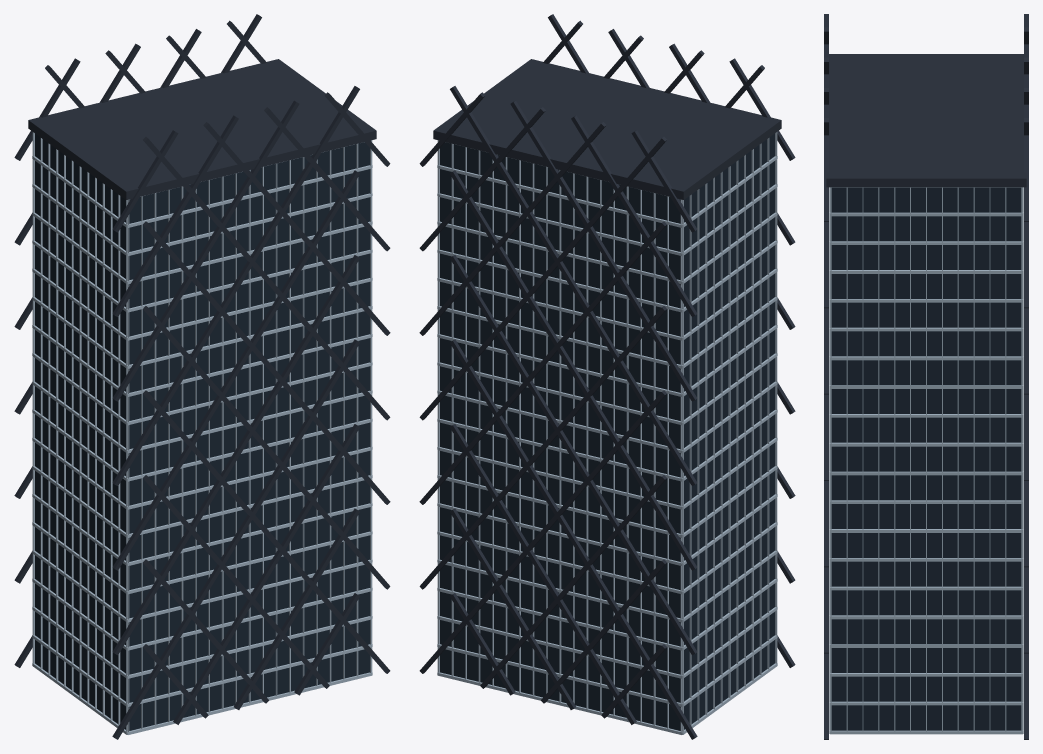
File: tower_diagrid.glb
3 views of the same model, side by side, from view 1: azimuth 30°, elevation 25°; view 2: azimuth 150°, elevation 25°; view 3: azimuth 270°, elevation 25° (orthographic). The views are drawn at different scales.
Visible parts, largest first — view 1: TowerDiagrid; view 2: TowerDiagrid; view 3: TowerDiagrid.
Part boxes in pixels (box(x1,y1,x2,y2)): TowerDiagrid: box(14, 14, 390, 739); TowerDiagrid: box(419, 14, 795, 739); TowerDiagrid: box(824, 14, 1028, 739).
Bounding box in the file's own units: 40.98 × 84.38 × 25.8.
